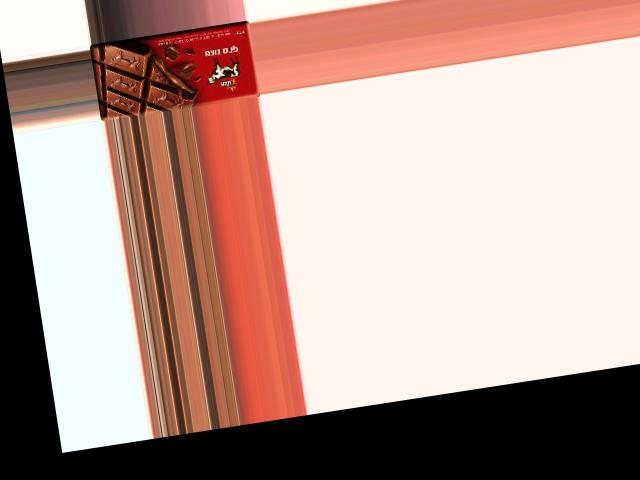chocolate: (91, 21, 260, 120)
